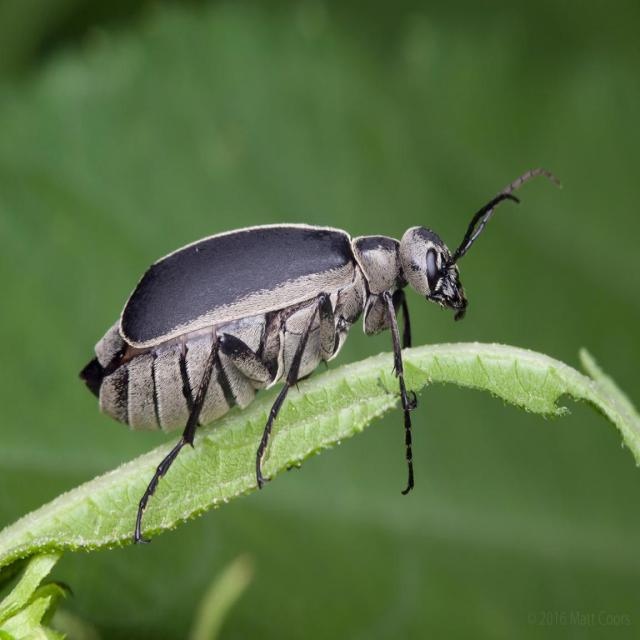BlisterBeetle-Adult-: (70, 159, 553, 553)
